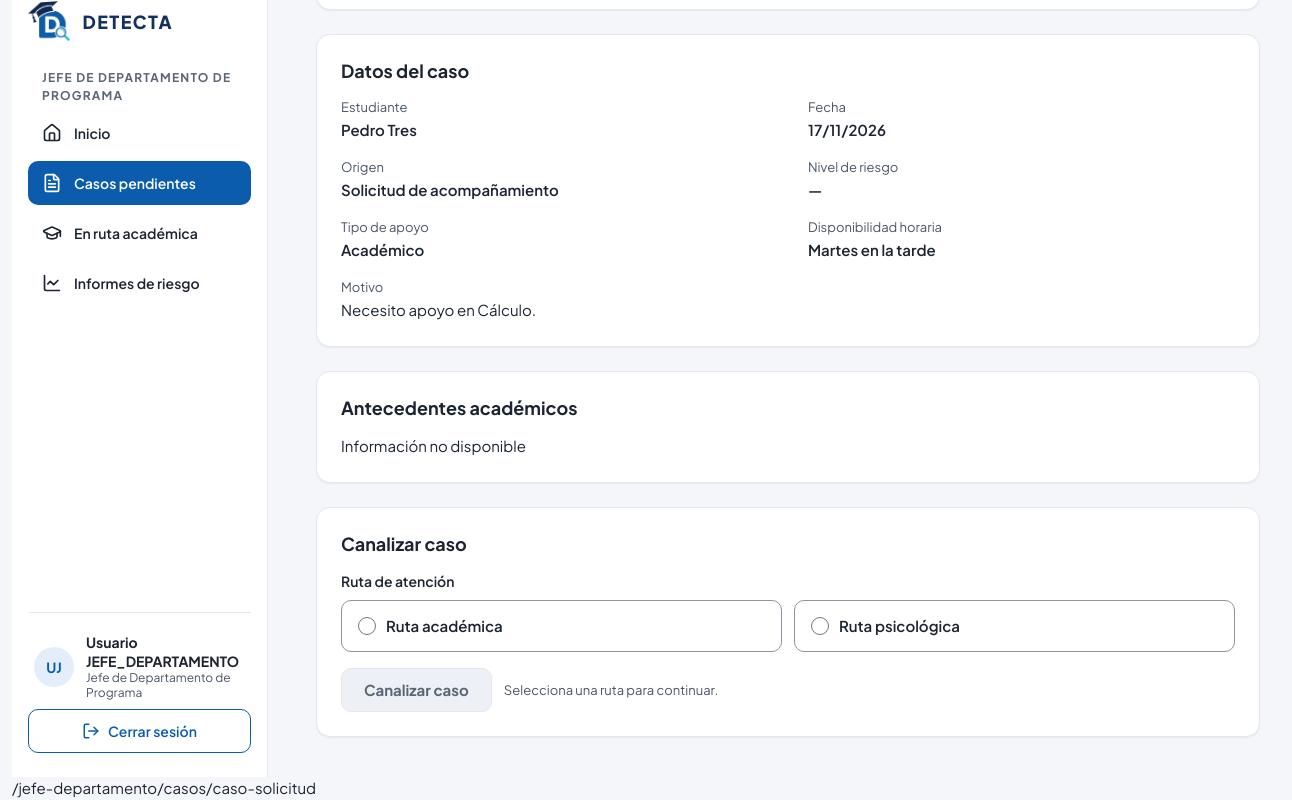
Test: Canalización del caso (CUD04) › psicología: «Caso remitido a psicología», sin plan y sin el motivo
(page scrolled)
Click the radio button labelled "Ruta psicológica" at (820, 626), box [811,617,829,635]
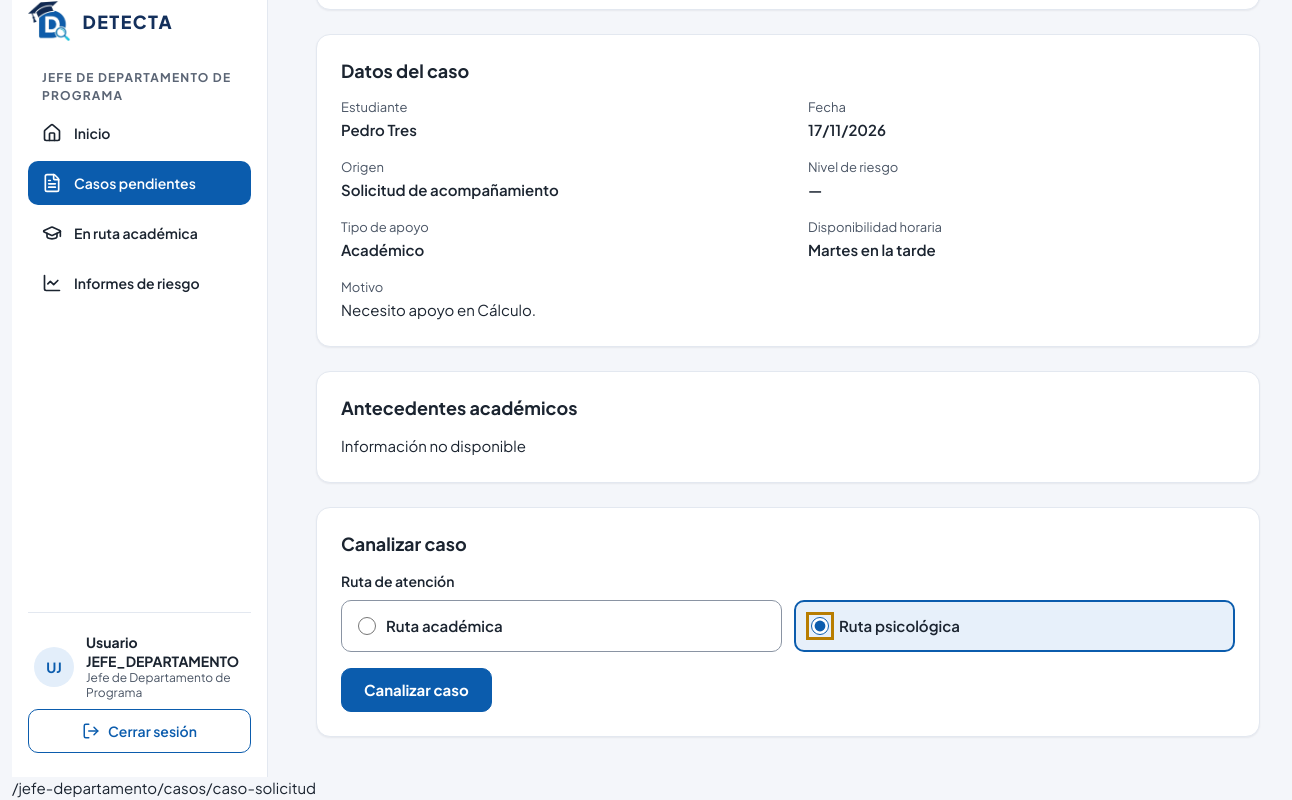
Click the button "Canalizar caso" at (416, 690), box [341,668,492,712]
(page scrolled)
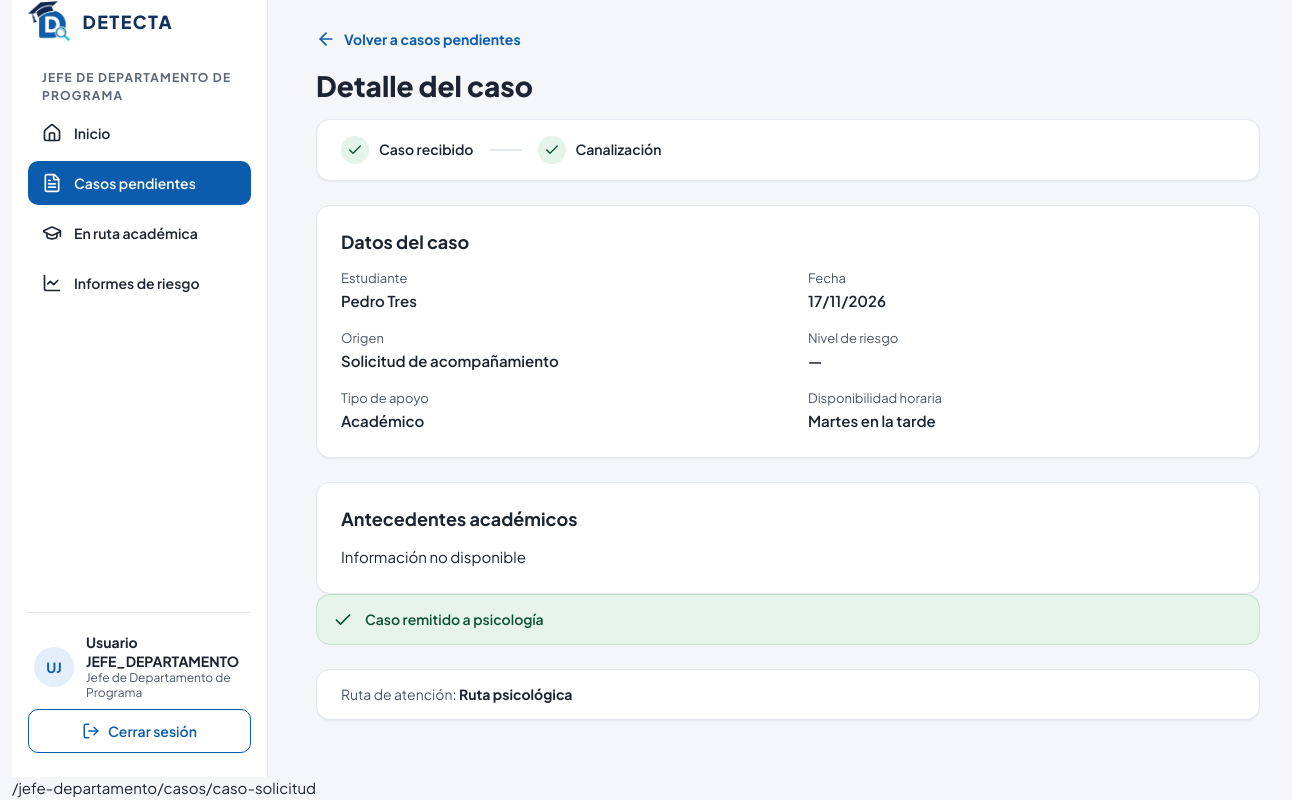
Expected: the message reads "Caso remitido a psicología", [365,610,544,628]
Expected: the text "Necesito apoyo en Cálculo." is gone
